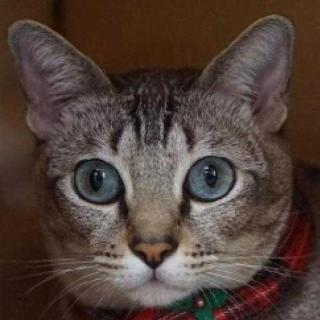cat: (4, 8, 298, 305)
nose: (122, 210, 184, 271)
